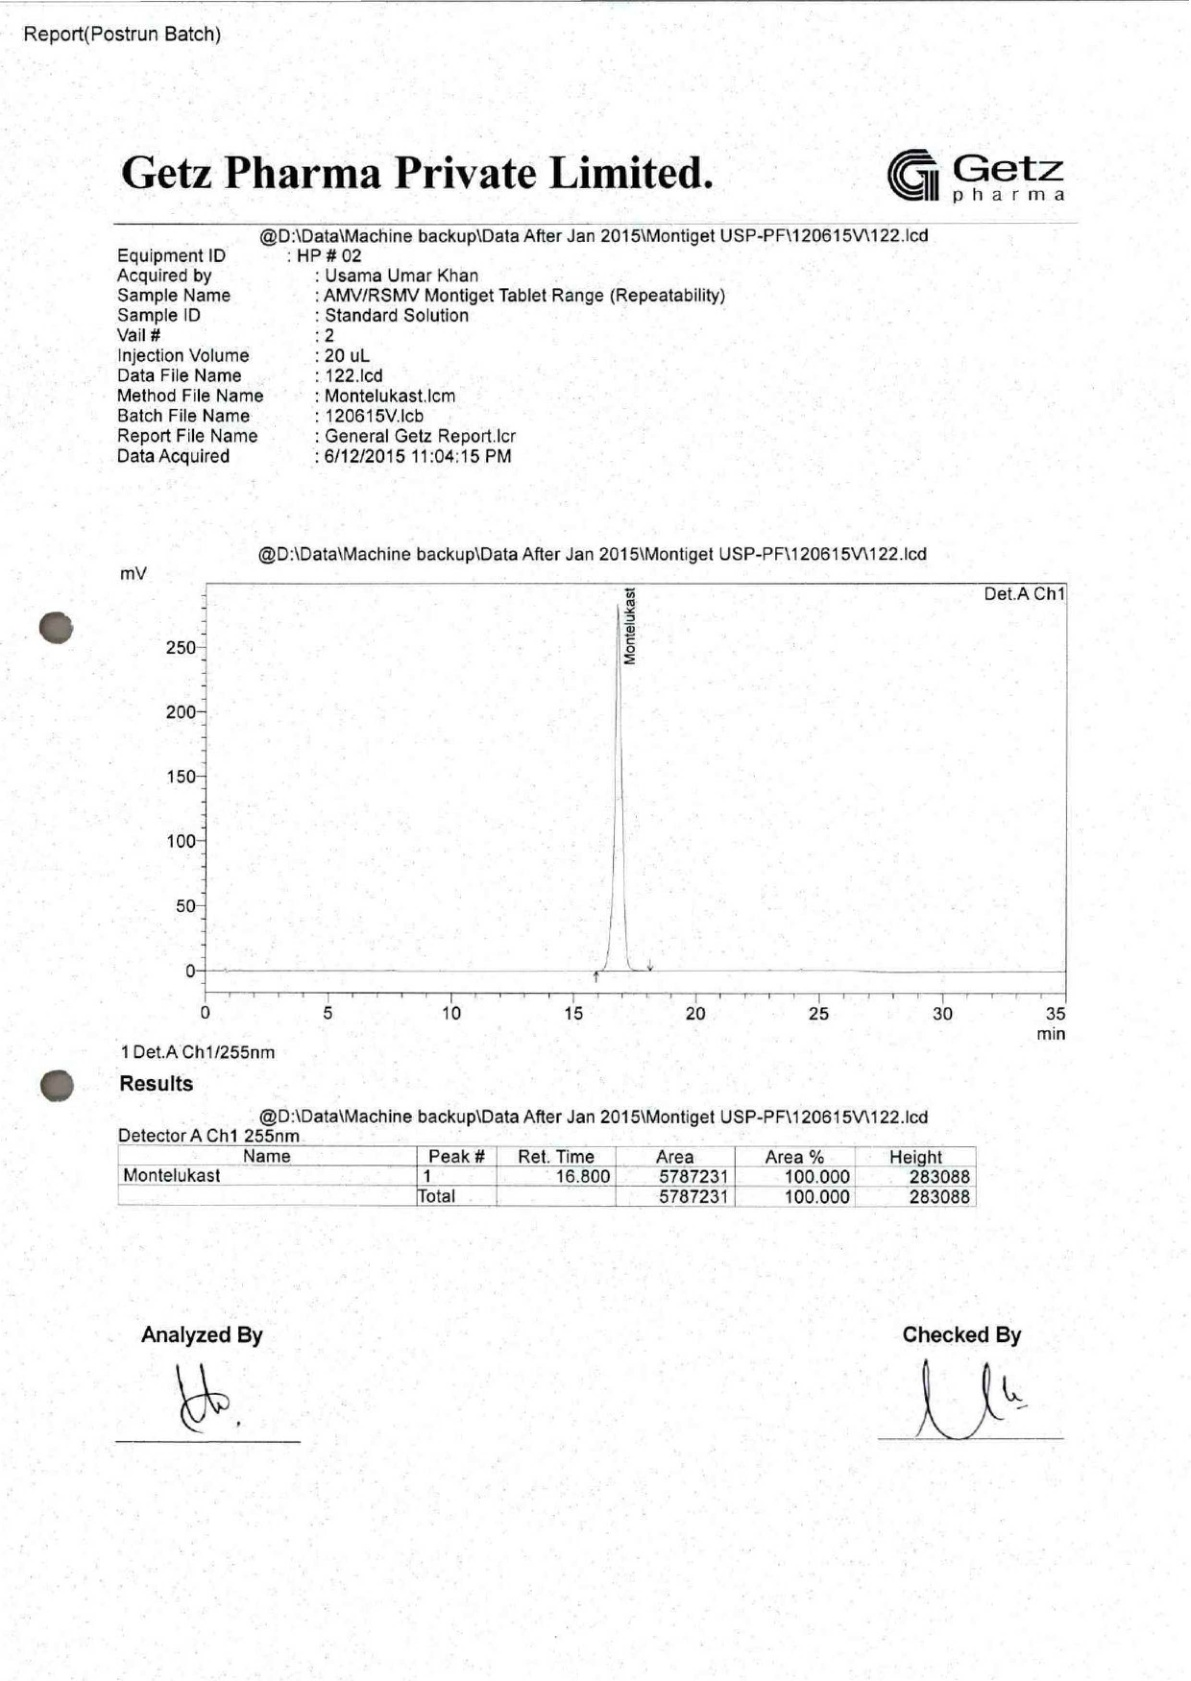full_lined: (116, 1143, 977, 1209)
nolines: (113, 246, 730, 465)
